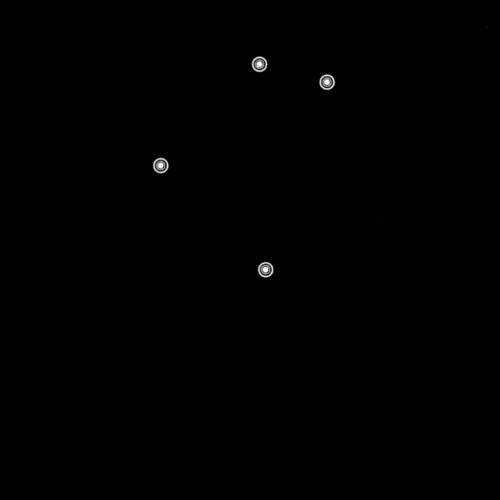coma_berenices: (142, 50, 336, 285)
